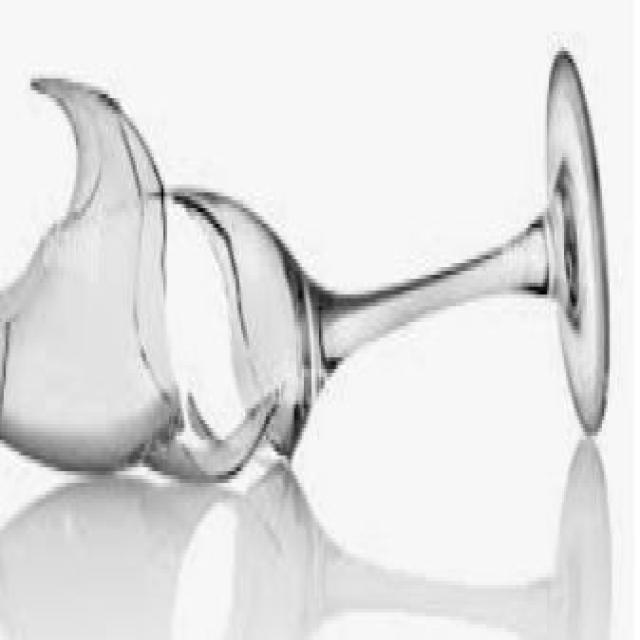electronic: (0, 46, 609, 488)
